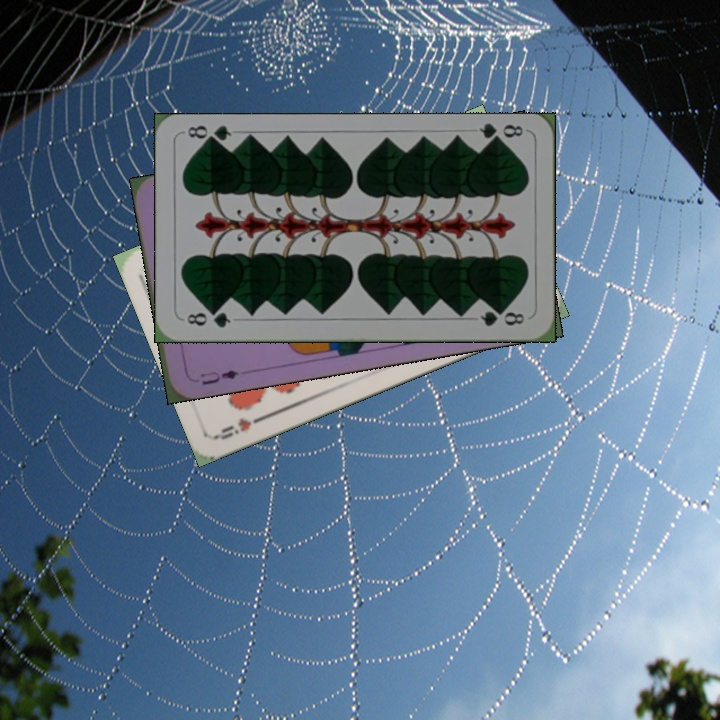EU: (196, 366, 241, 388)
G8: (475, 120, 525, 147), (183, 307, 234, 331)
H9: (213, 411, 270, 443)
